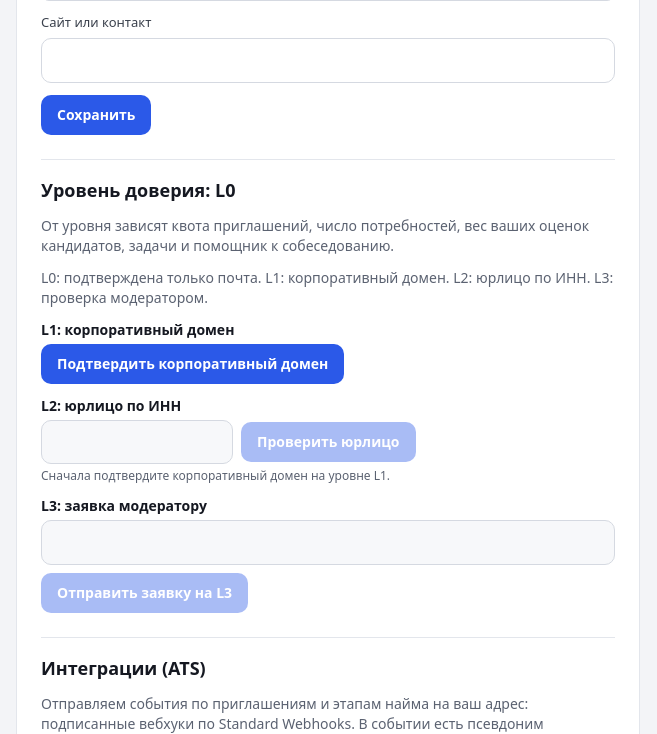
company trust levels › L0: only the domain step is open and a server error is shown as is
(page scrolled)
expect the heading "Уровень доверия: L0" is shown: met, box x1=41 y1=178 x2=235 y2=202
expect the field named "ИНН" is disabled: met, box x1=41 y1=420 x2=233 y2=464
Click the button "Подтвердить корпоративный домен" at {"x": 193, "y": 364}, box x1=41 y1=344 x2=344 y2=384
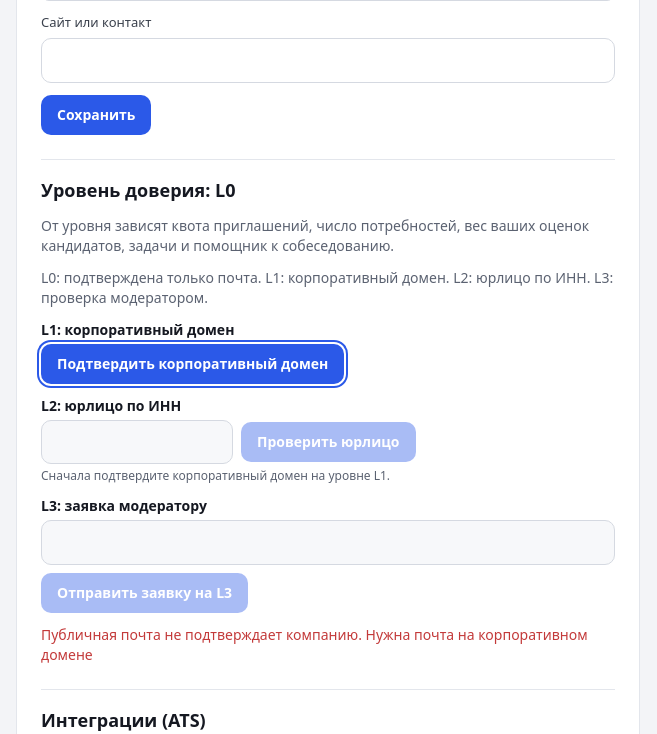
expect the message shows "Публичная почта не подтверждает компанию": met, box x1=41 y1=624 x2=588 y2=664
